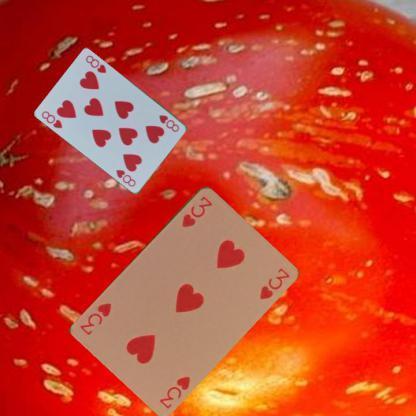3h: (156, 373, 192, 410), (179, 193, 214, 229)
8h: (39, 107, 64, 130), (156, 112, 180, 134)
